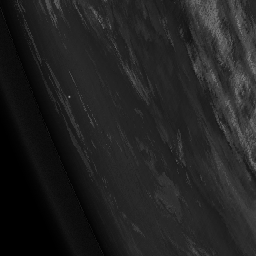Target: (66, 95, 71, 100)
